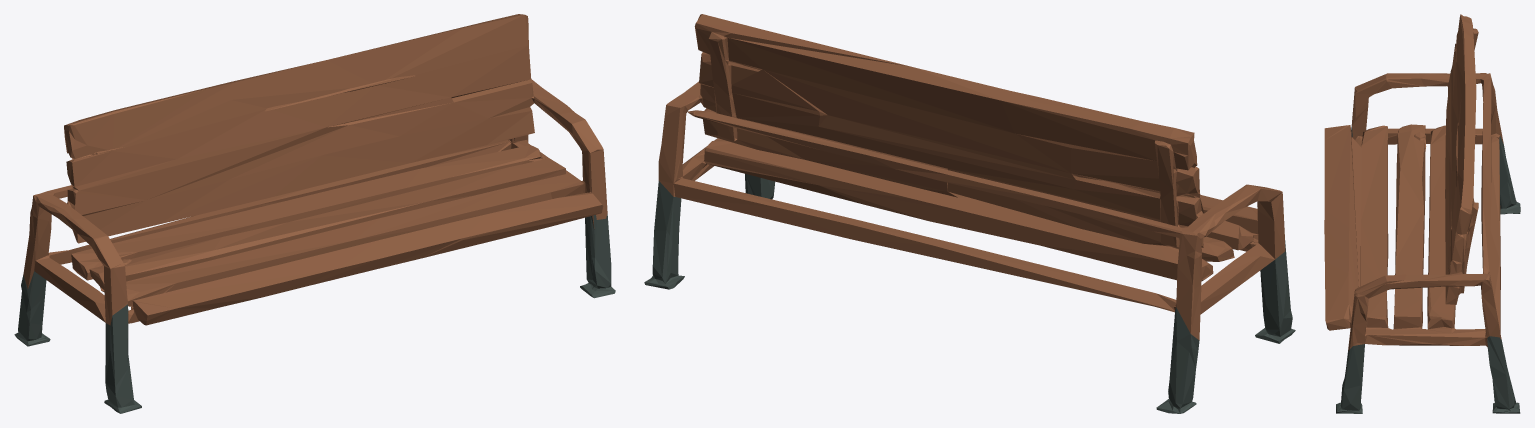
Rendered from slatted-bench-backrest-visible-low.glb.
3 renders of one model, left to right at view 1: azimuth 30°, elevation 25°; view 2: azimuth 150°, elevation 25°; view 3: azimuth 270°, elevation 25°, orthographic. The views are drawn at different scales.
Parts seen in each view (by area): view 1: slatted-bench-backrest; view 2: slatted-bench-backrest; view 3: slatted-bench-backrest.
Part boxes in pixels (x1,y1,x2,y2): slatted-bench-backrest: [14, 14, 615, 413]; slatted-bench-backrest: [644, 14, 1295, 413]; slatted-bench-backrest: [1324, 14, 1520, 413].
Bounding box in the file's own units: 2.08 × 0.93 × 0.82.
